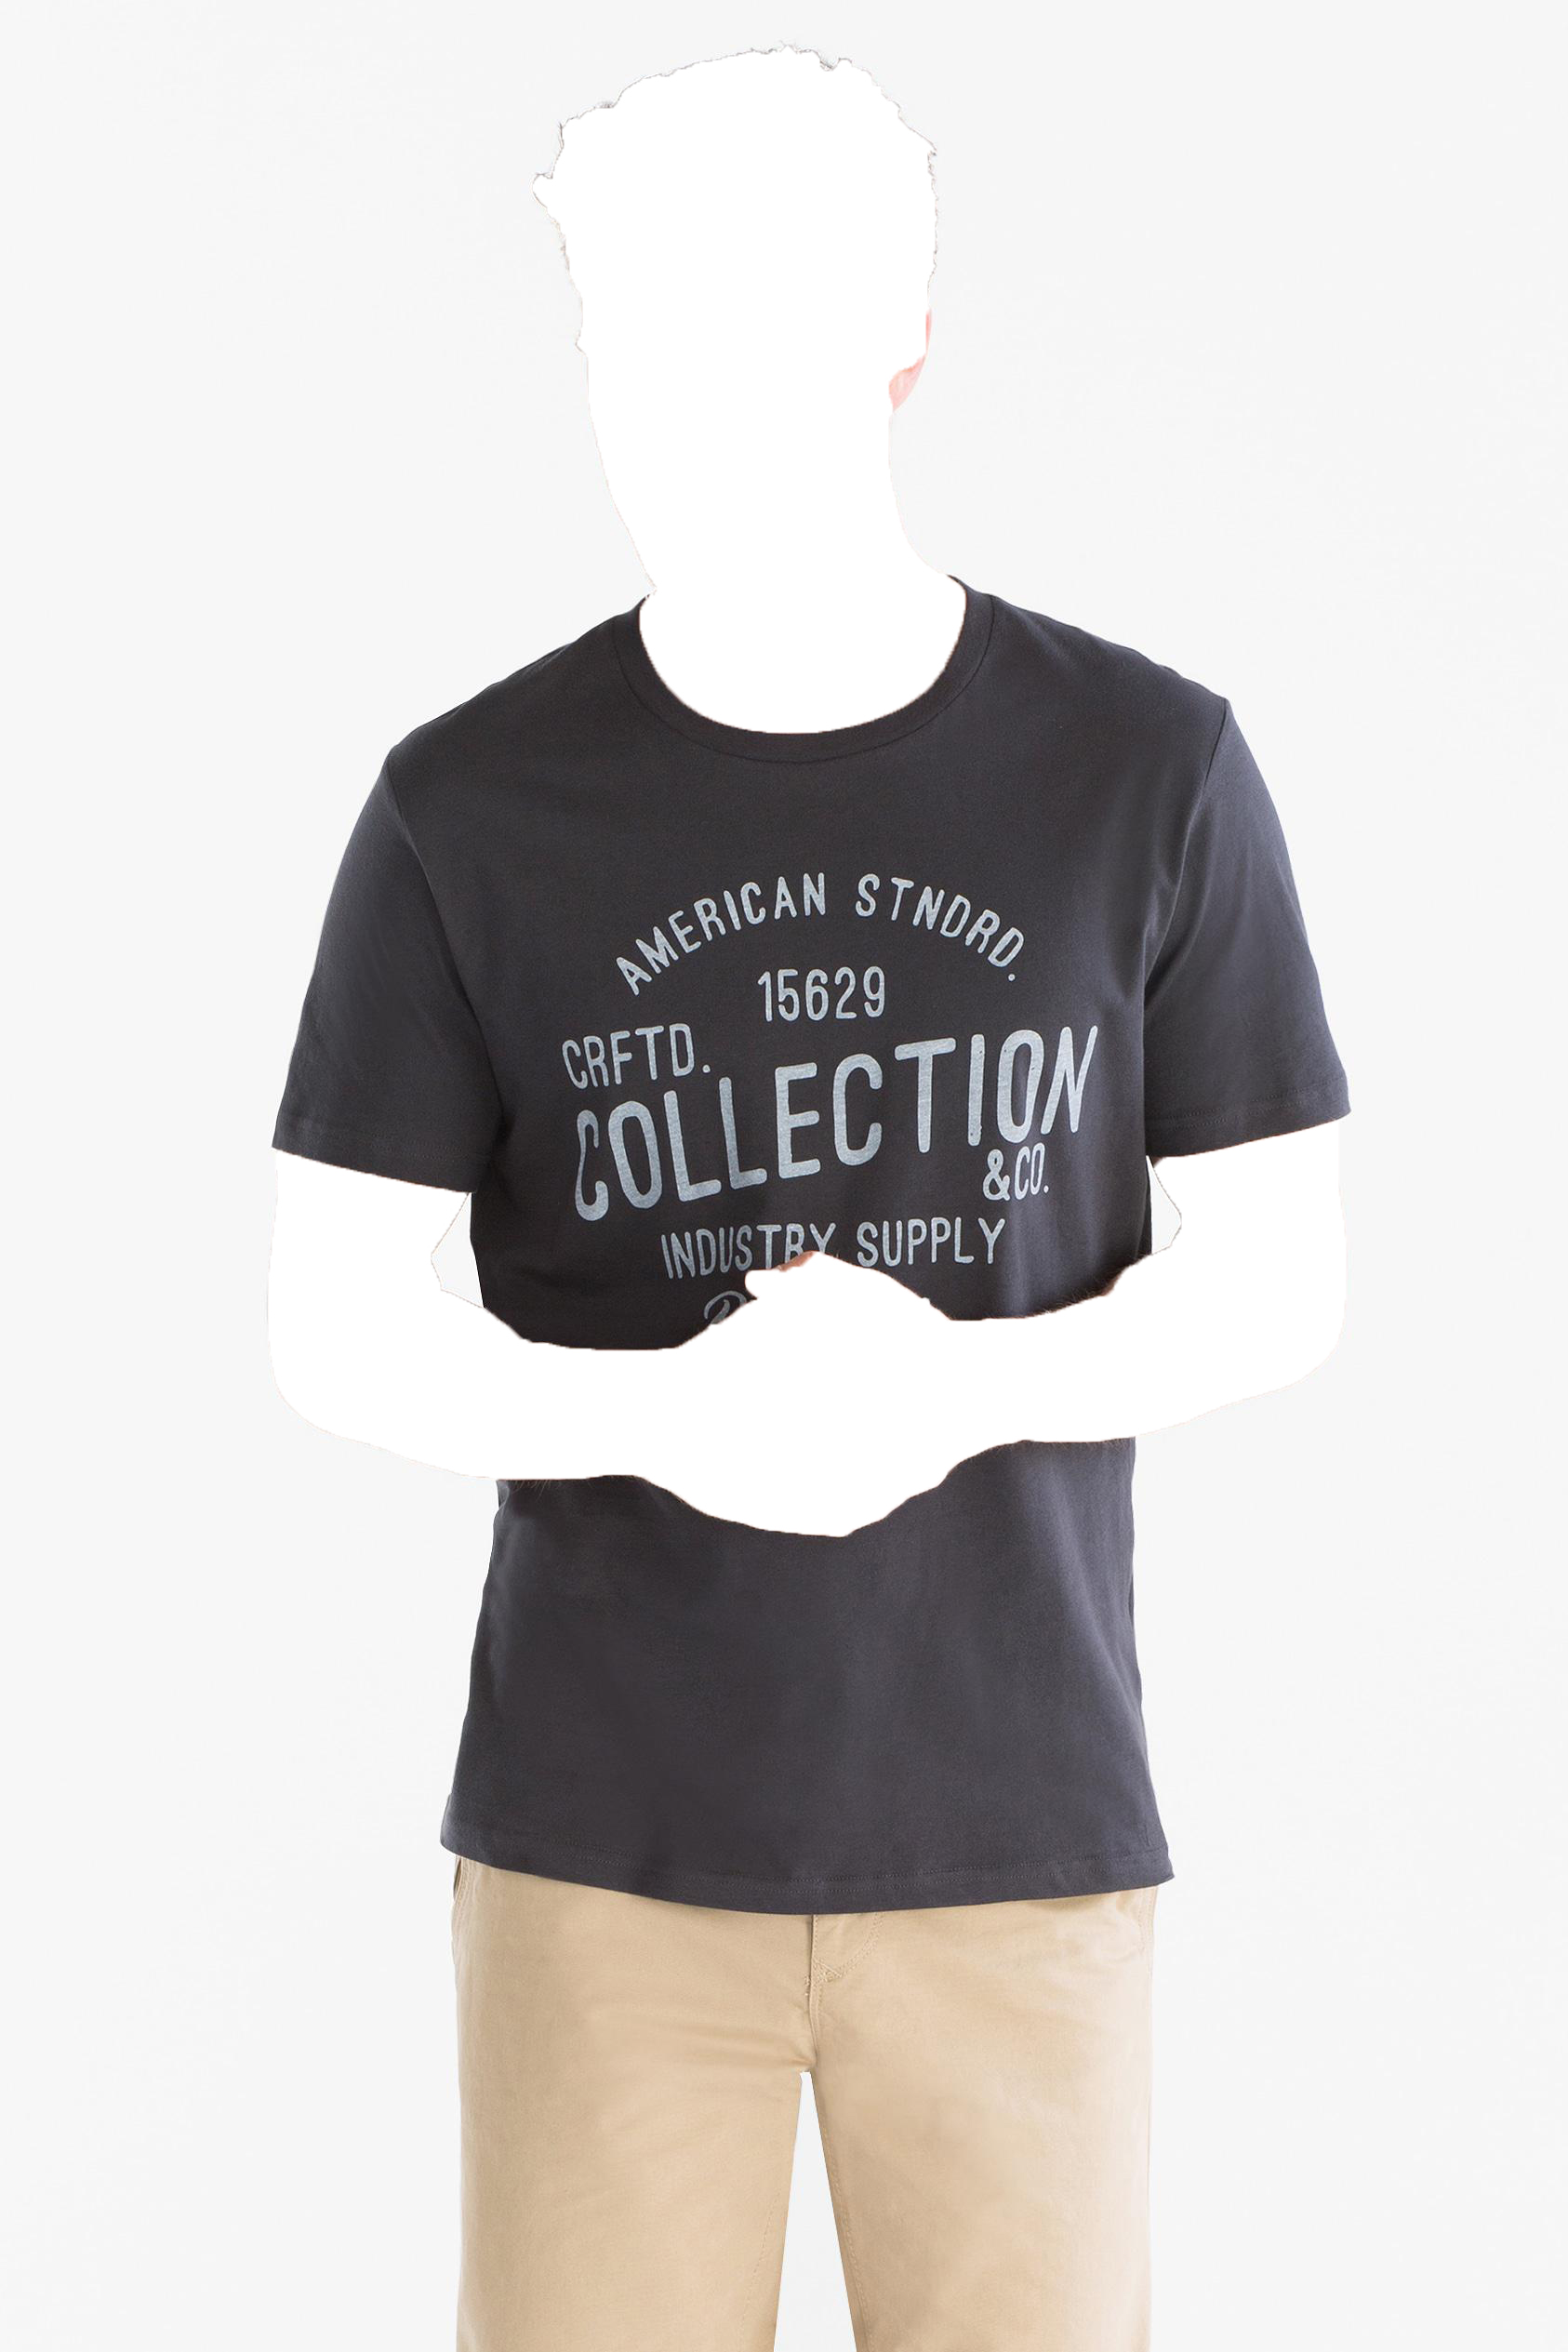teeshirt: (259, 579, 1414, 1909)
